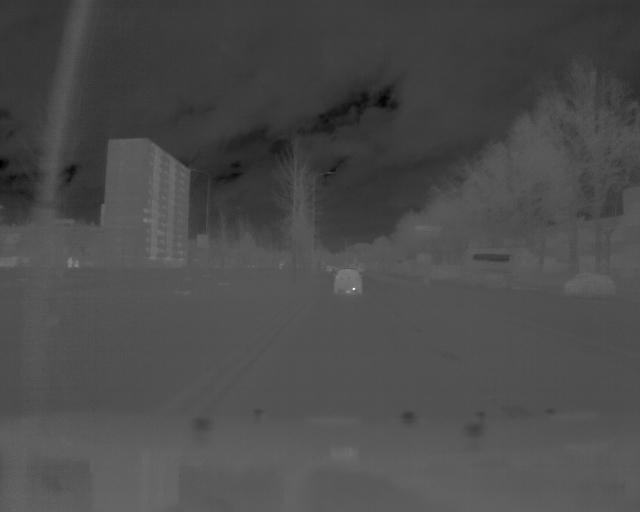car: (561, 270, 619, 303), (329, 268, 366, 298)
